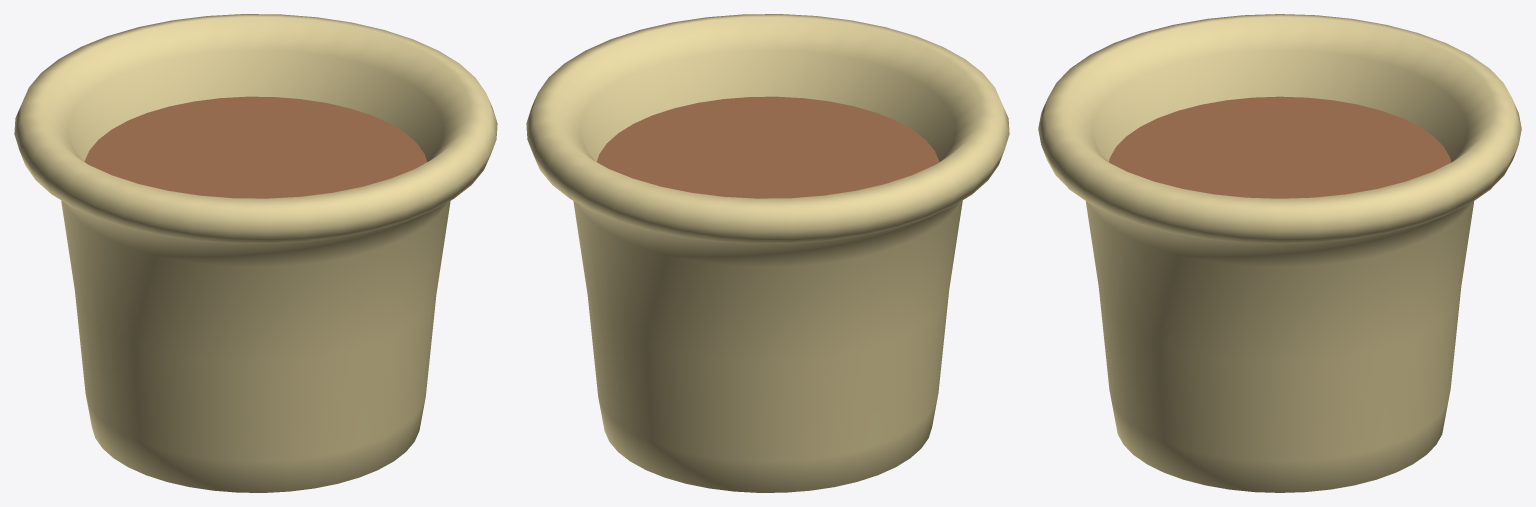
File: flower pot.fbx
3 views of the same model, side by side, from view 1: azimuth 30°, elevation 25°; view 2: azimuth 150°, elevation 25°; view 3: azimuth 270°, elevation 25° (orthographic).
Visible parts, largest first — view 1: pCylinder1, pPlane1; view 2: pCylinder1, pPlane1; view 3: pCylinder1, pPlane1.
Part boxes in pixels (bbox=[...]): pCylinder1: bbox=[14, 14, 497, 492]; pPlane1: bbox=[84, 96, 426, 198]; pCylinder1: bbox=[526, 14, 1009, 492]; pPlane1: bbox=[597, 96, 939, 198]; pCylinder1: bbox=[1038, 14, 1521, 492]; pPlane1: bbox=[1109, 96, 1450, 198].
Size of the model in its own units: 547 by 394 by 547.
